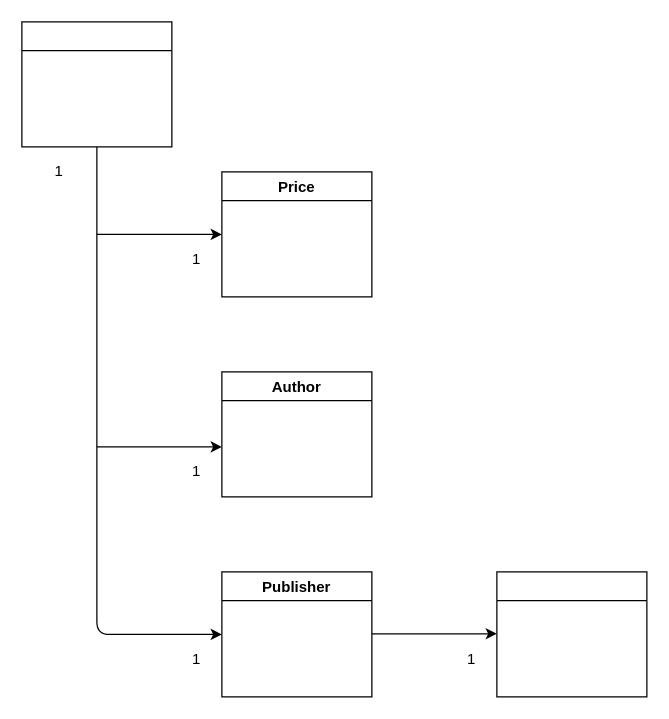
Image size: 669x719. Some labels were removed from this diagram. Each missing label, with the centre of its shape:
Address: point 571,634
Book: point 96,84
